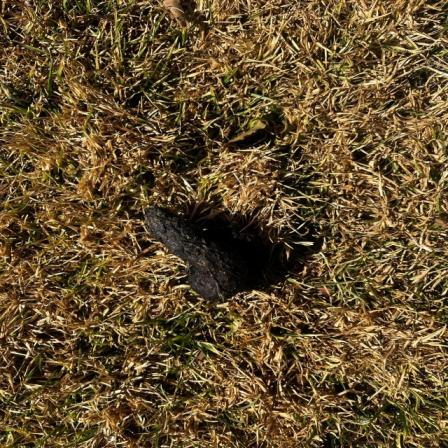dog-poop: (132, 204, 254, 312)
